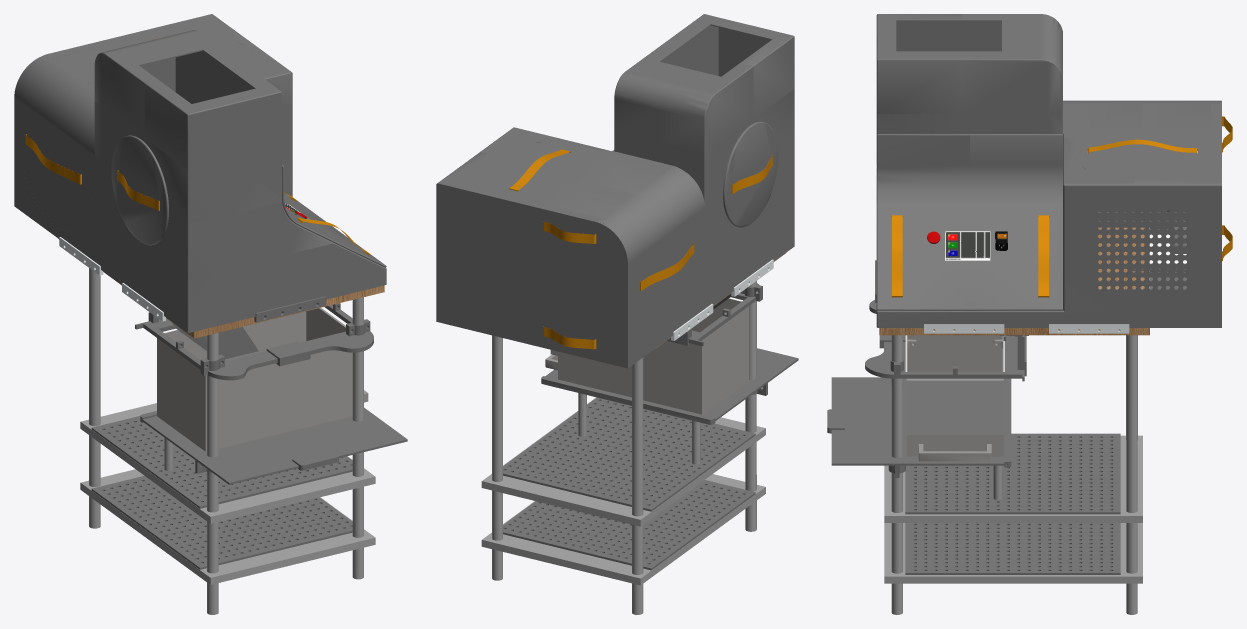
File: shredder-system.glb
3 views of the same model, side by side, from view 1: azimuth 30°, elevation 25°; view 2: azimuth 150°, elevation 25°; view 3: azimuth 270°, elevation 25° (orthographic). The views are drawn at different scales.
Visible parts, largest first — view 1: Body11, Plane, Body83; view 2: Body11, Plane; view 3: Body11, Plane, Body83, Body235.
Part boxes in pixels (x1,y1,x2,y2): Body11: (14,14,407,614); Plane: (25,37,369,255); Body83: (104,272,384,338); Body11: (436,14,798,614); Plane: (509,149,772,349); Body11: (827,14,1221,614); Plane: (892,116,1232,297); Body83: (879,227,1149,335); Body235: (945,231,990,260).
Size of the model in its own units: 0.5481 by 1.26 by 0.9092.
5 materials, 5 textured.
